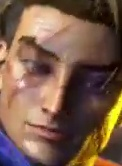kevin: (0, 11, 121, 161)
